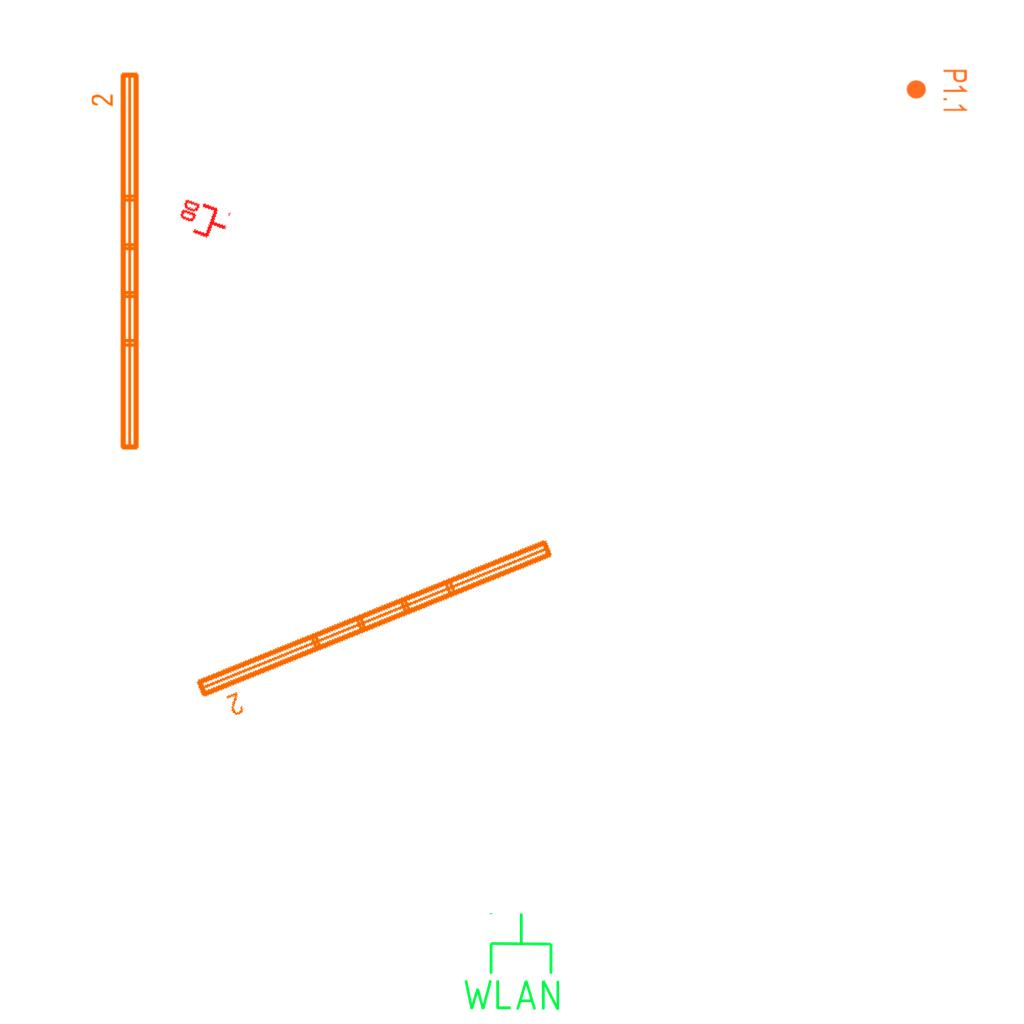Ambulanz_Pendelleuchte_LED: (189, 531, 570, 729), (89, 68, 145, 455)
Datenanschluss_zweifach: (173, 195, 233, 246)
Downlight_LED_Einbauleuchten_Flur: (905, 68, 969, 114)
WLAN: (459, 910, 564, 1014)
